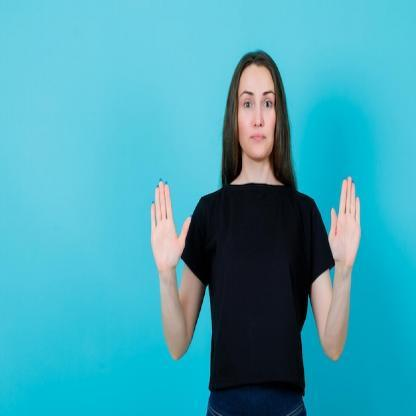stop: (150, 173, 193, 275), (327, 172, 363, 278)
